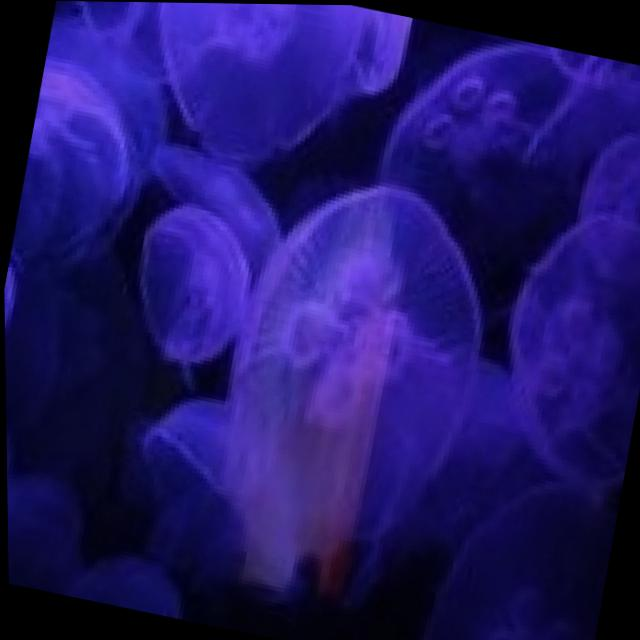Moon-jellyfish: (183, 157, 534, 630), (477, 192, 640, 517), (105, 182, 284, 403)
